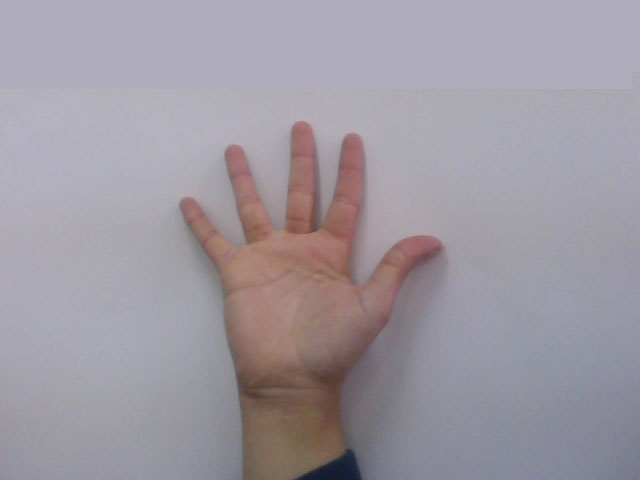hand: (165, 108, 452, 374)
